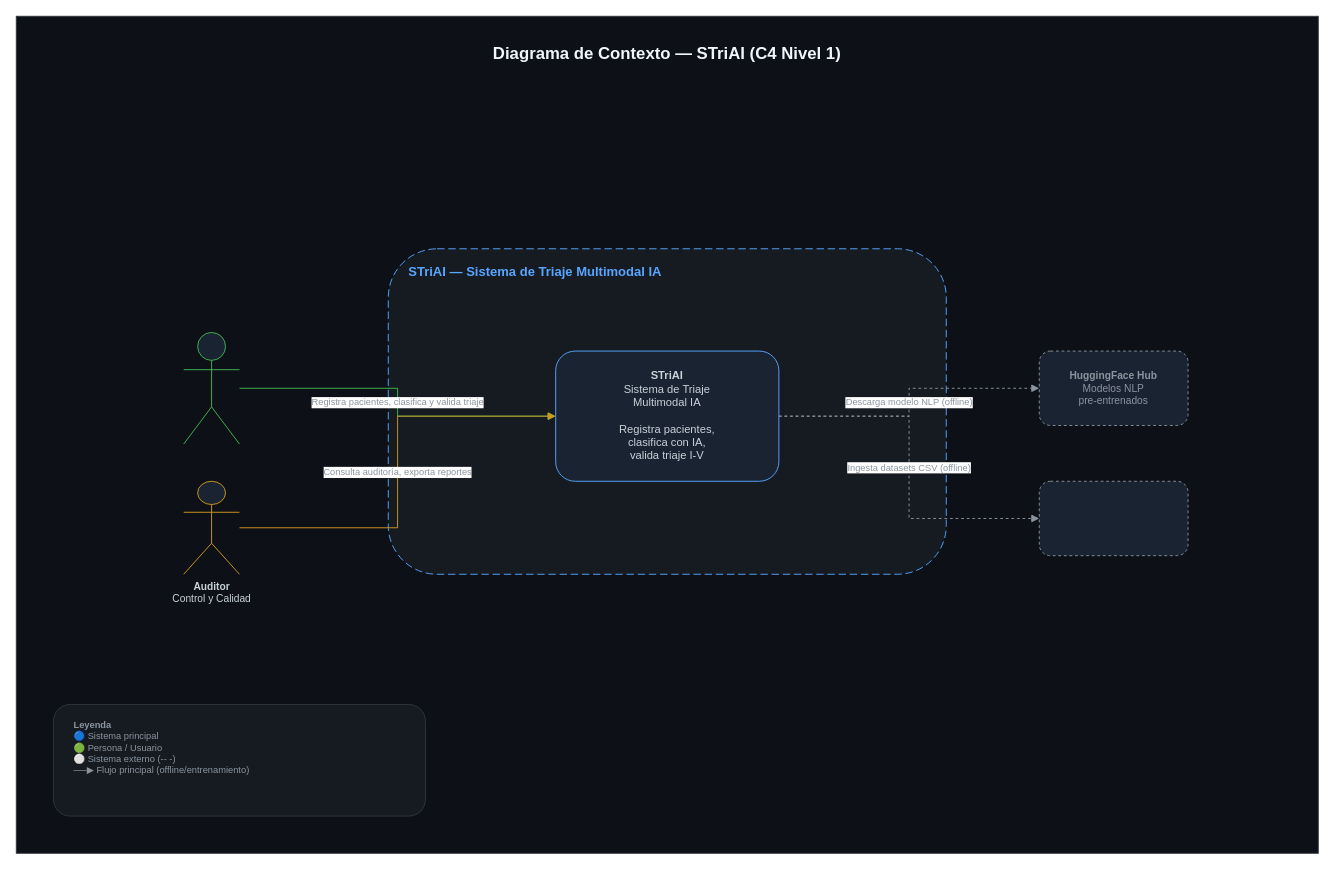
The diagram is 1335 pixels wide and 870 high, and some of its shapes have lost their labels. Here are the shapes that lost their labels. From the top down, the box of each, then its label:
(183, 332, 239, 444): Profesional de Salud Médico / Enfermero / Admin
(1038, 480, 1188, 556): datos.gov.co Datasets CSV abiertos
